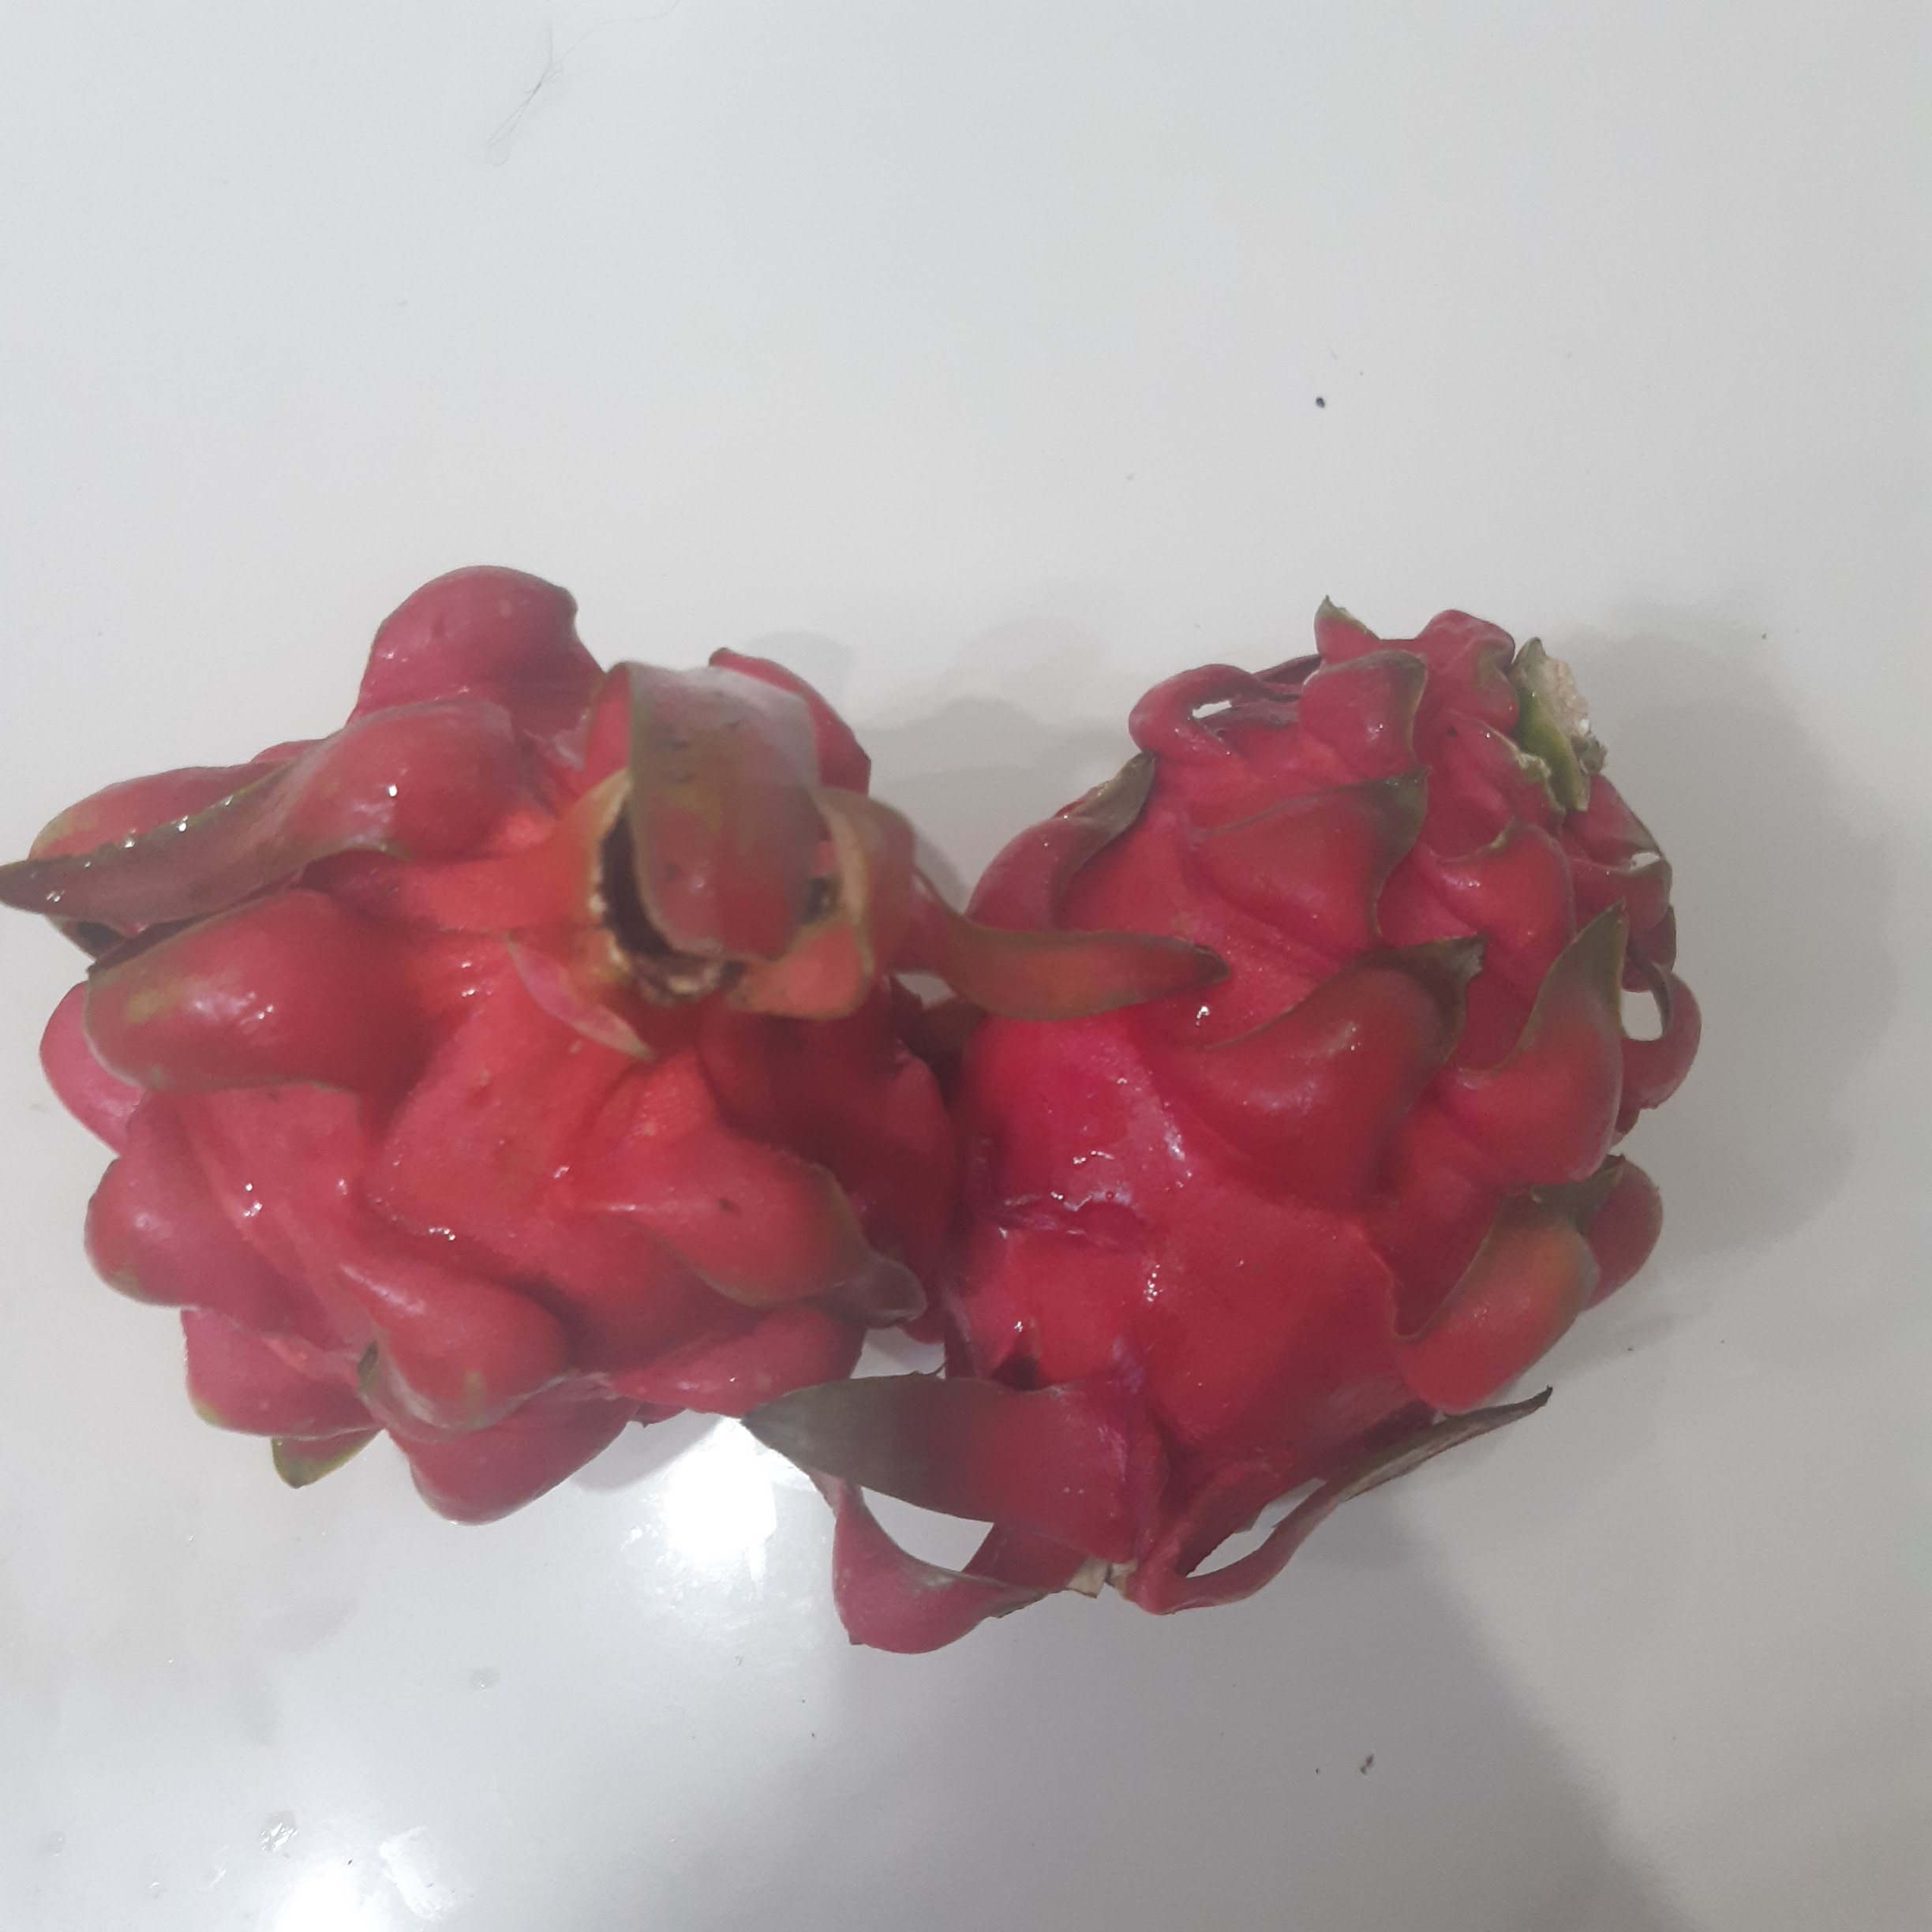Thanh long: (16, 614, 954, 1484), (938, 609, 1698, 1509)
